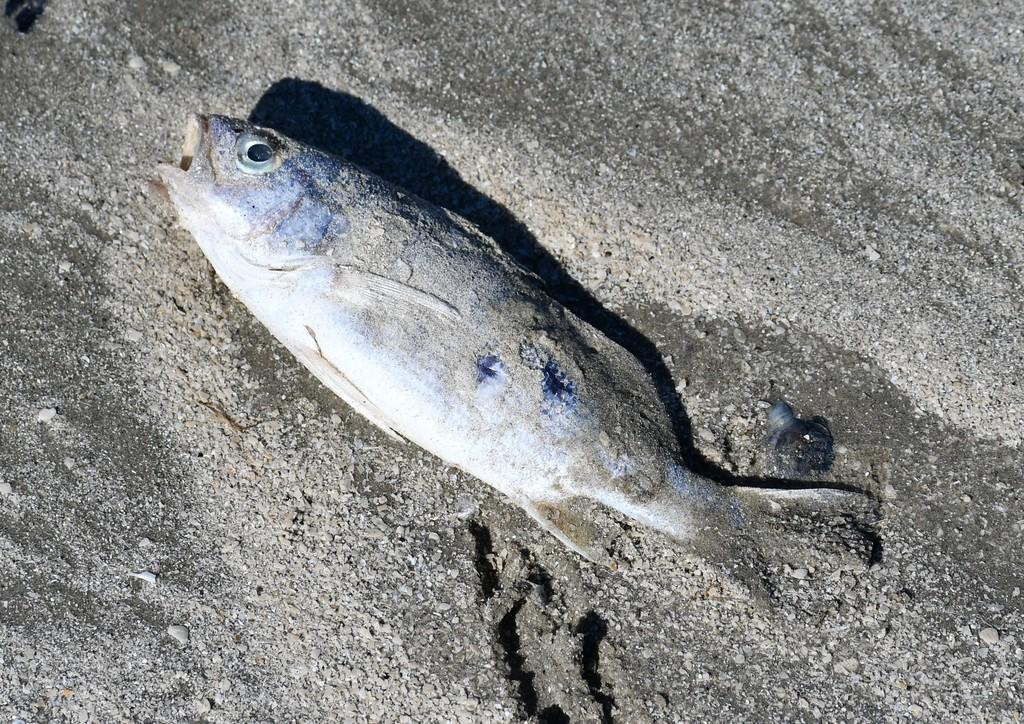Silver Perch: (149, 108, 890, 640)
